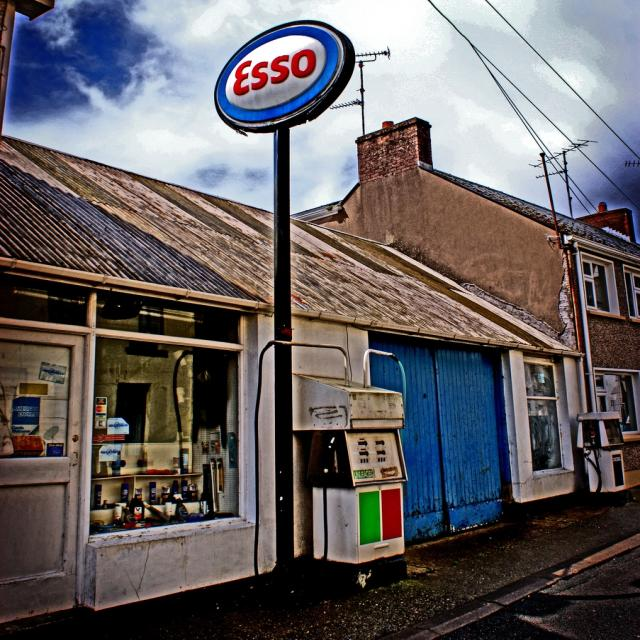esso: (214, 24, 347, 126)
